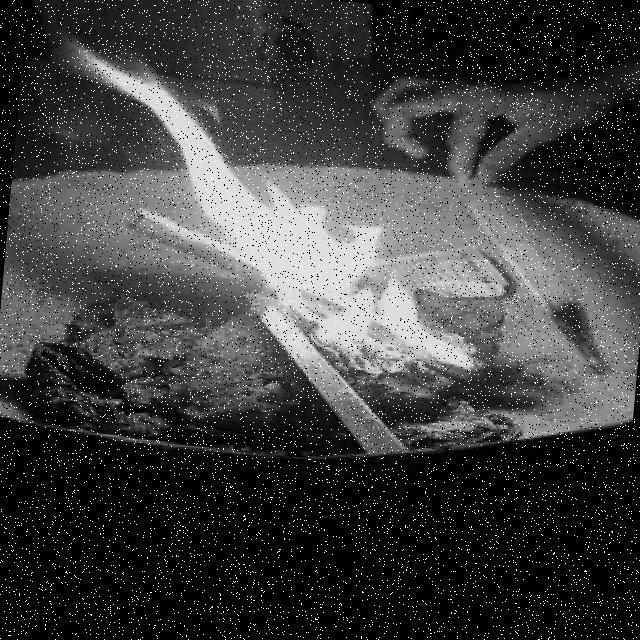Fire: (44, 3, 460, 372)
